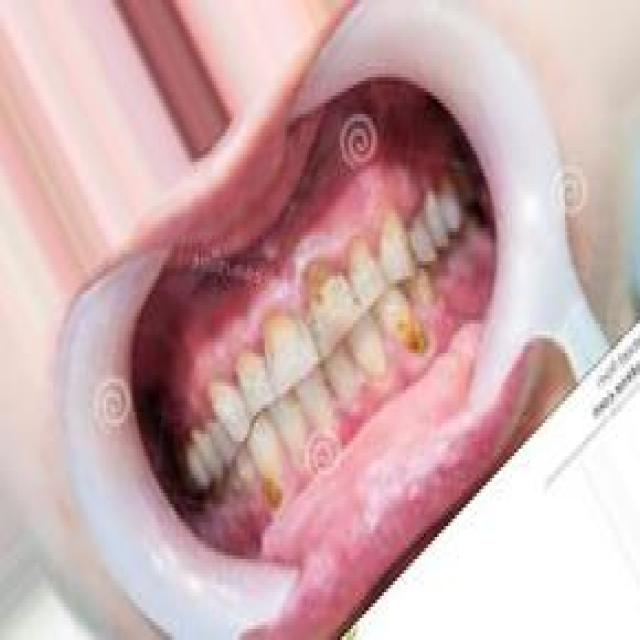caries: (301, 250, 349, 334)
